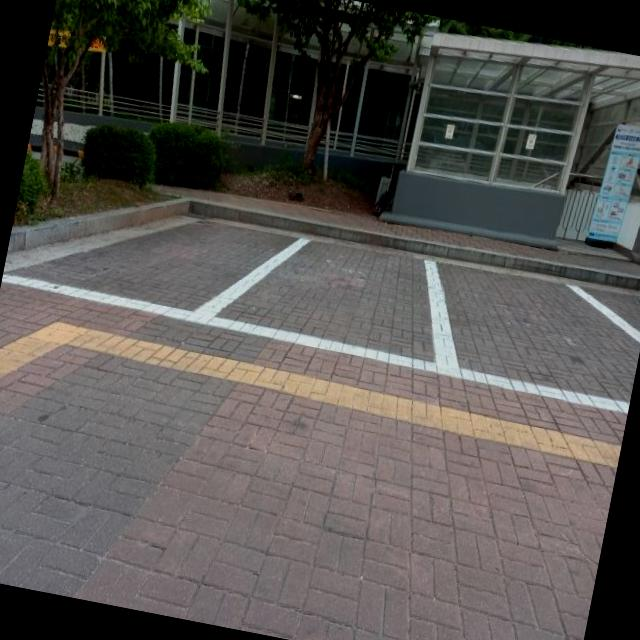free: (17, 169, 321, 344), (186, 210, 469, 378), (411, 252, 640, 414)
